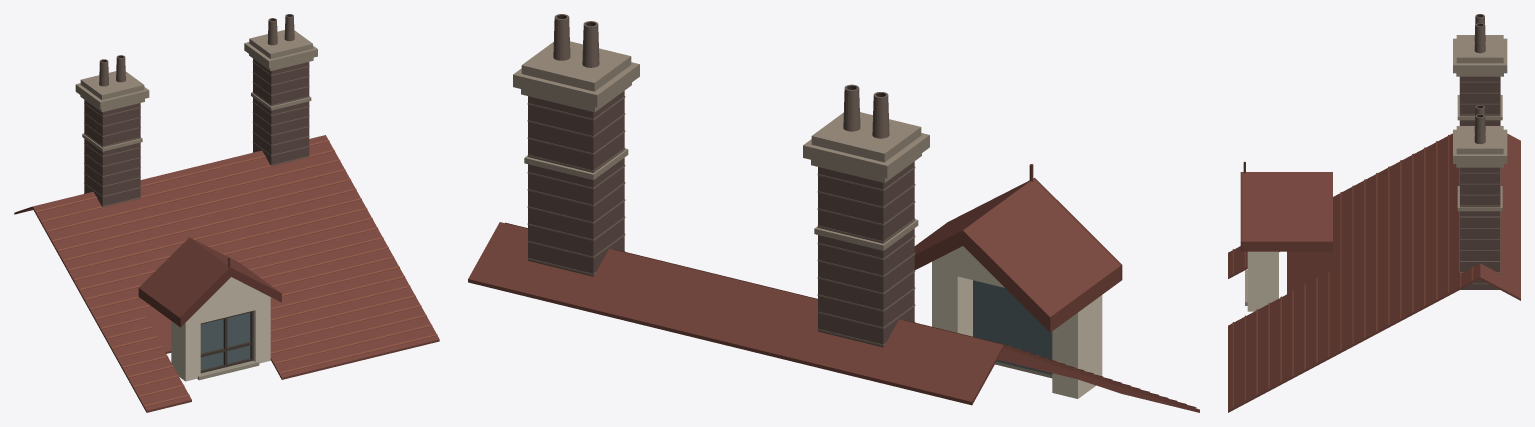
Rendered from jingan-881-garden-villa-dormer-flues-web.glb.
3 views of the same model, side by side, from view 1: azimuth 30°, elevation 25°; view 2: azimuth 150°, elevation 25°; view 3: azimuth 270°, elevation 25° (orthographic). The views are drawn at different scales.
Parts seen in each view (by area): view 1: 延安中路881号花园住宅庭院侧老虎窗与成对双管烟囱; view 2: 延安中路881号花园住宅庭院侧老虎窗与成对双管烟囱; view 3: 延安中路881号花园住宅庭院侧老虎窗与成对双管烟囱.
Boxes of the visible parts, <box> form: 延安中路881号花园住宅庭院侧老虎窗与成对双管烟囱: <box>14,14,439,412</box>; 延安中路881号花园住宅庭院侧老虎窗与成对双管烟囱: <box>468,14,1199,412</box>; 延安中路881号花园住宅庭院侧老虎窗与成对双管烟囱: <box>1228,14,1520,412</box>.
Size of the model in its own units: 7.63 by 6.24 by 5.97.
